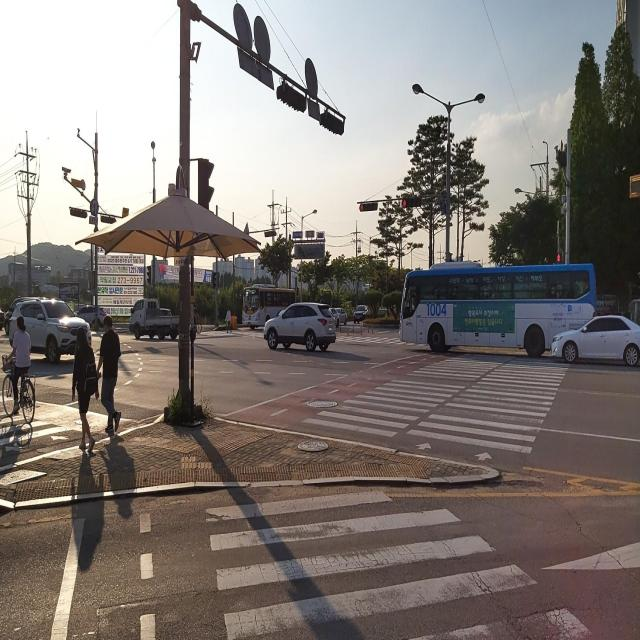횡단보도: (190, 469, 591, 640), (299, 353, 572, 467), (0, 391, 74, 458), (238, 324, 437, 347)
